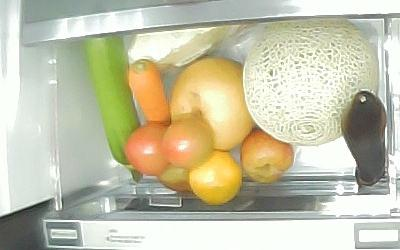cabbage: (127, 24, 242, 67)
carrot: (126, 58, 170, 127)
eggplant: (341, 91, 388, 190)
melon: (242, 18, 381, 147)
pear: (169, 56, 255, 150)
prune: (242, 128, 296, 183), (124, 124, 173, 176), (156, 163, 192, 194)
tangerine: (190, 150, 243, 207)
tomato: (163, 117, 215, 166)
zucchini: (85, 37, 143, 182)
